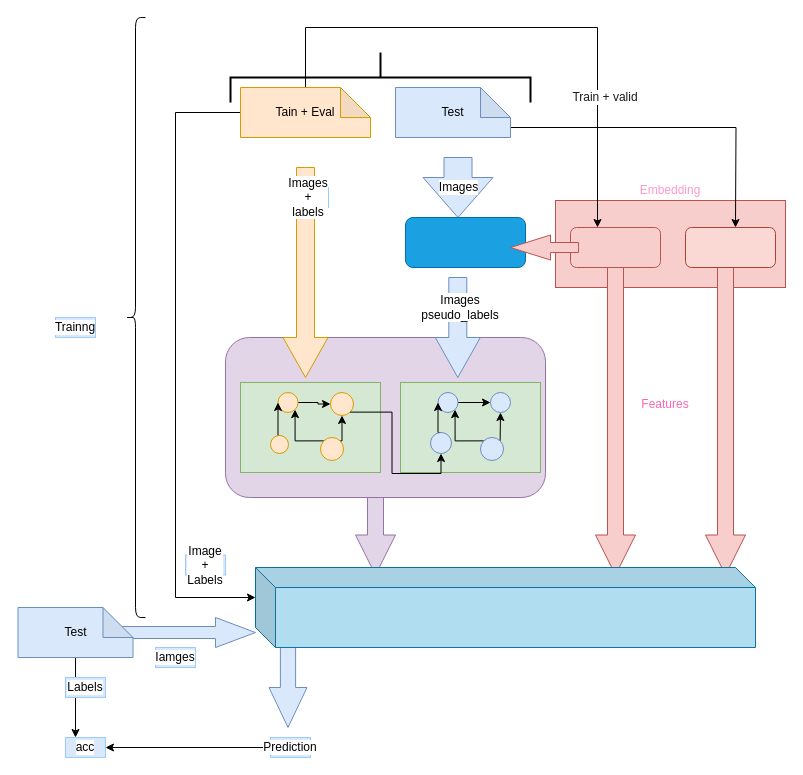
Some shapes in this 803 by 775 pixel diagram are drawn without their labels. Here are the shapes that lost their labels. From the top down, the centre of each, then its label:
the point at 380,77: Semart
the point at 465,242: ContextNet
the point at 615,247: Node2vec
the point at 730,247: Random
the point at 375,535: Adjecency matrix
the point at 505,607: GCNBoost
